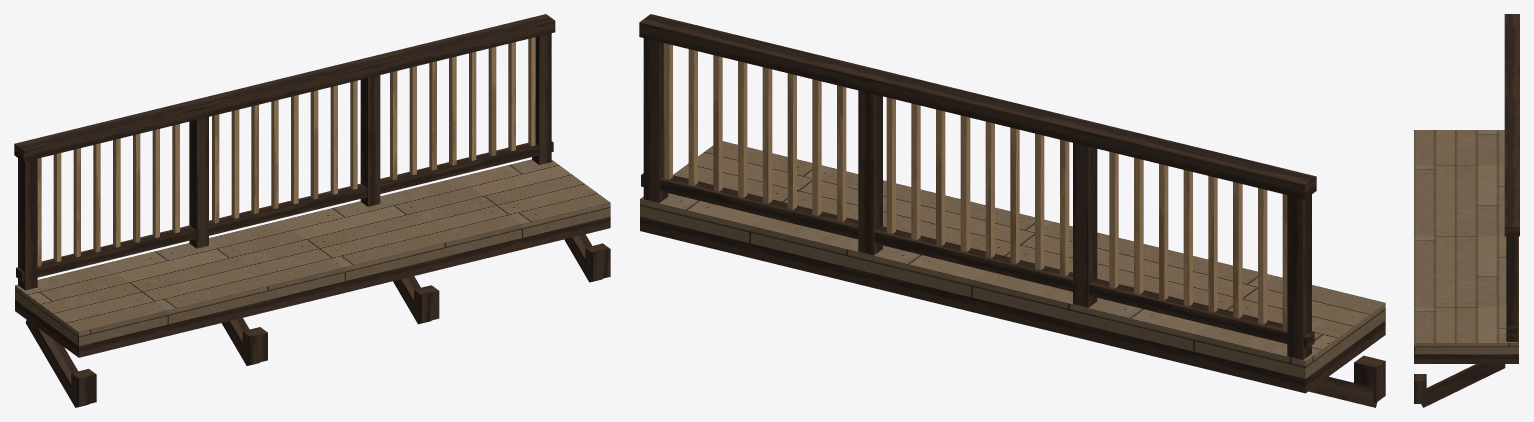
The model's file is HO_Wall_Balcony_12.fbx.
The picture shows the model from 3 angles, left to right: view 1: azimuth 30°, elevation 25°; view 2: azimuth 150°, elevation 25°; view 3: azimuth 270°, elevation 25°; orthographic projection. The views are drawn at different scales.
Visible parts, largest first — view 1: HO_Wall_Balcony_12__Timber_Dark, HO_Wall_Balcony_12__Wood_Planks, HO_Wall_Balcony_12__Timber_Light; view 2: HO_Wall_Balcony_12__Timber_Dark, HO_Wall_Balcony_12__Wood_Planks, HO_Wall_Balcony_12__Timber_Light; view 3: HO_Wall_Balcony_12__Wood_Planks, HO_Wall_Balcony_12__Timber_Dark.
Boxes of the visible parts, box(x1,y1,x2,y2) form: HO_Wall_Balcony_12__Timber_Dark: box(14, 14, 610, 407); HO_Wall_Balcony_12__Wood_Planks: box(15, 159, 610, 345); HO_Wall_Balcony_12__Timber_Light: box(37, 37, 535, 266); HO_Wall_Balcony_12__Timber_Dark: box(639, 14, 1385, 407); HO_Wall_Balcony_12__Wood_Planks: box(640, 141, 1385, 378); HO_Wall_Balcony_12__Timber_Light: box(663, 43, 1287, 330); HO_Wall_Balcony_12__Wood_Planks: box(1414, 130, 1518, 354); HO_Wall_Balcony_12__Timber_Dark: box(1414, 14, 1519, 407).
Bounding box in the file's own units: 12 × 4.78 × 2.52.
